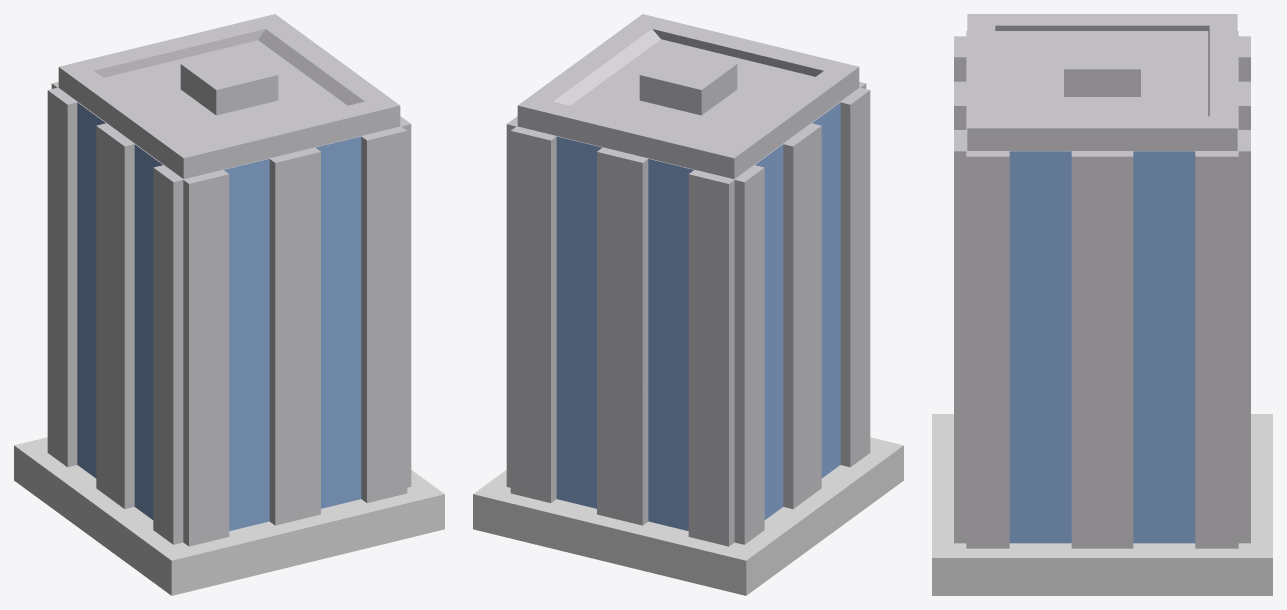
The model's file is LowpolyBuilding3.fbx.
3 views of the same model, side by side, from view 1: azimuth 30°, elevation 25°; view 2: azimuth 150°, elevation 25°; view 3: azimuth 270°, elevation 25° (orthographic). The views are drawn at different scales.
Visible parts, largest first — view 1: Plane, Cube.001, Cube, Cube.002; view 2: Plane, Cube.001, Cube, Cube.002; view 3: Plane, Cube.001, Cube, Cube.002.
Part boxes in pixels (x1=…): Plane: x1=47, y1=82, x2=411, y2=546; Cube.001: x1=58, y1=14, x2=400, y2=178; Cube: x1=14, y1=437, x2=444, y2=595; Cube.002: x1=180, y1=49, x2=278, y2=115; Plane: x1=506, y1=82, x2=870, y2=546; Cube.001: x1=517, y1=14, x2=859, y2=178; Cube: x1=473, y1=437, x2=903, y2=595; Cube.002: x1=639, y1=49, x2=737, y2=115; Plane: x1=954, y1=31, x2=1250, y2=548; Cube.001: x1=967, y1=14, x2=1237, y2=150; Cube: x1=932, y1=414, x2=1272, y2=595; Cube.002: x1=1064, y1=36, x2=1140, y2=96.
Bounding box in the file's own units: 250 × 381 × 250.
